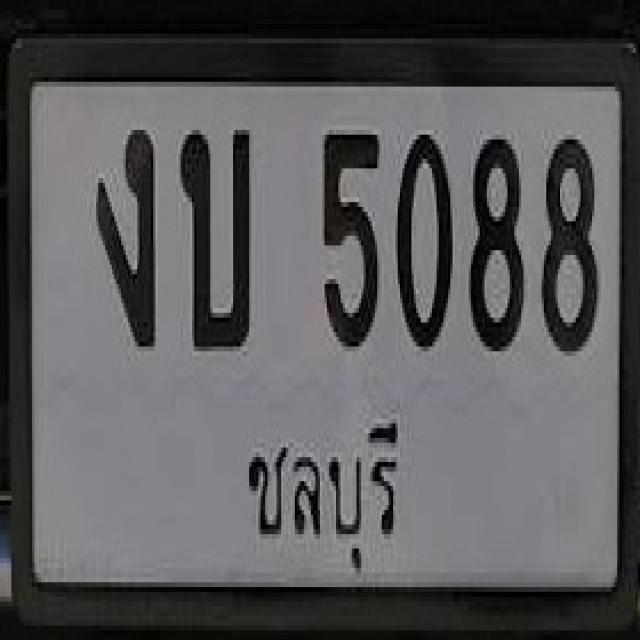license_plate: (7, 29, 640, 635)
